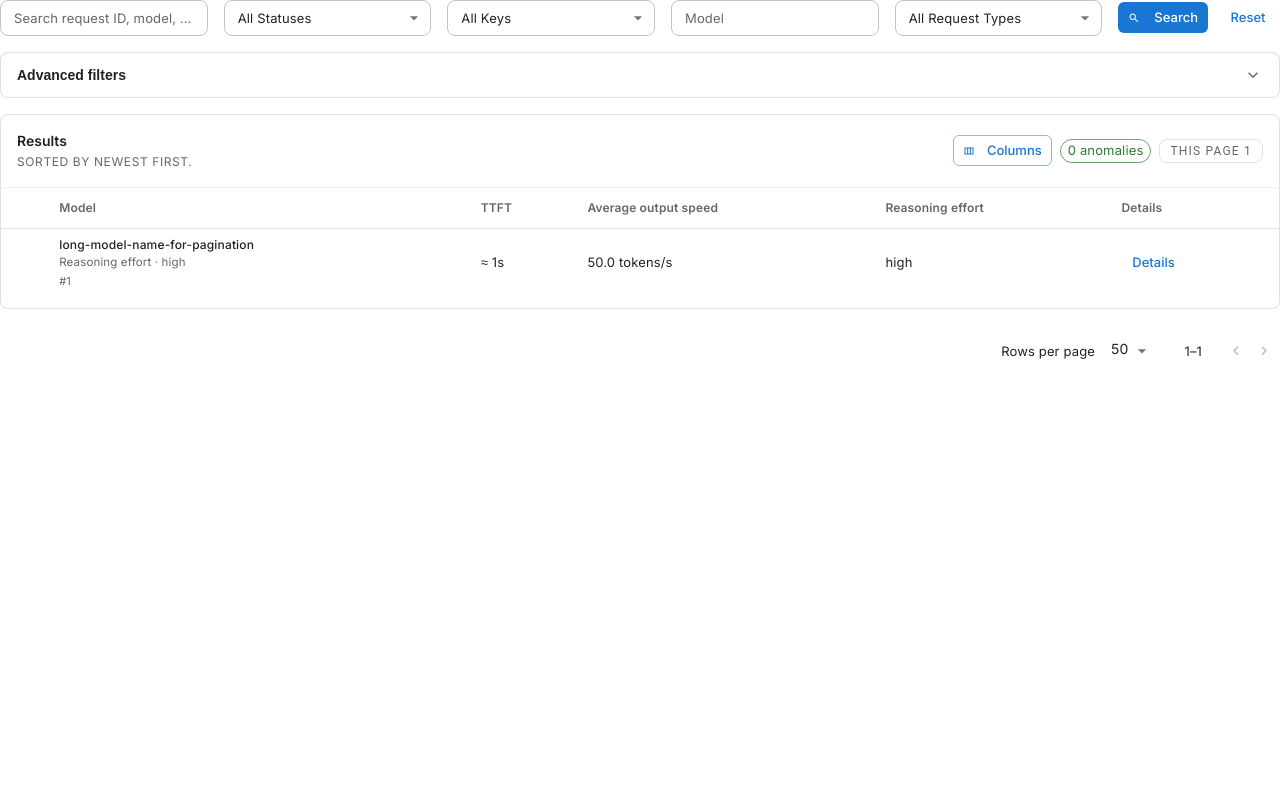
submitted server log queries › shows throughput and effort while distinguishing completed-output TTFT
Expected: the text "50.0 tokens/s" is shown, [587,254,673,270]
Expected: the text "≈ 1s" is shown, [481,254,504,270]
Step 1. Click the button with aria-label "metrics details" → (1154, 263), box [1122,247,1186,278]
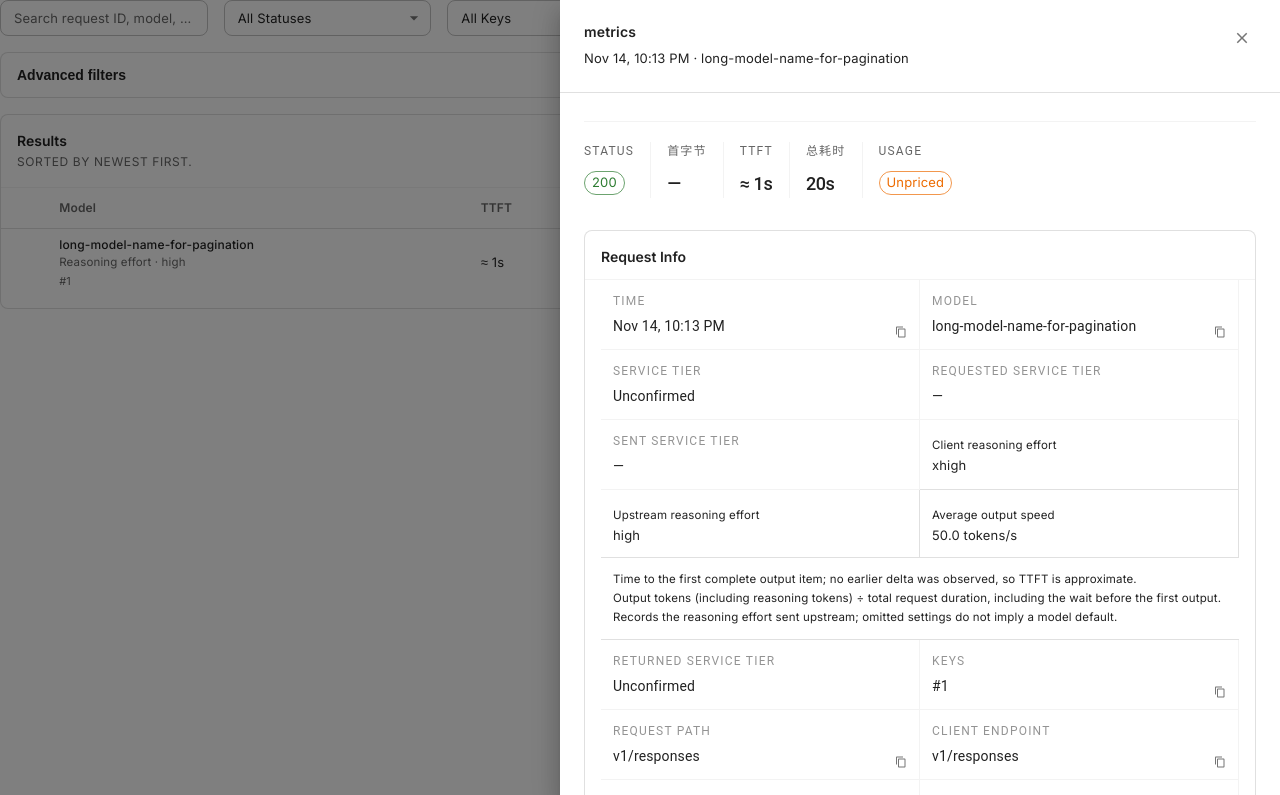
Expected: the text "xhigh" is shown, [932,457,966,473]
Expected: the text "high" is shown, [613,527,640,543]
Expected: the text "no earlier delta was observed" is shown, [613,572,1137,586]
